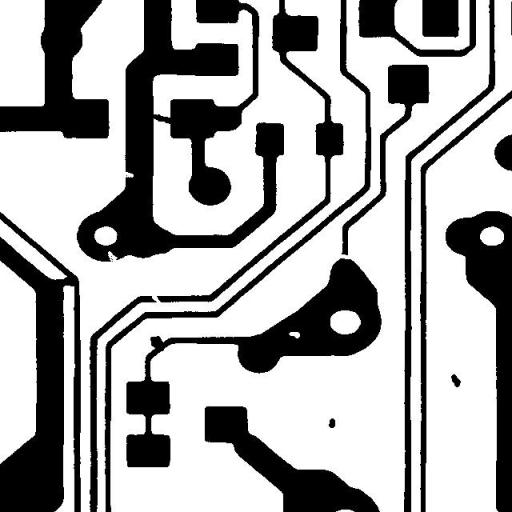copper: (443, 366, 468, 394), (321, 410, 342, 436)
mousebite: (112, 163, 141, 186), (100, 243, 125, 269)
open: (328, 246, 358, 266), (144, 286, 168, 310)
pin-hole: (281, 324, 307, 346)
short: (46, 269, 85, 295), (145, 106, 182, 133)
spur: (142, 328, 172, 358)
